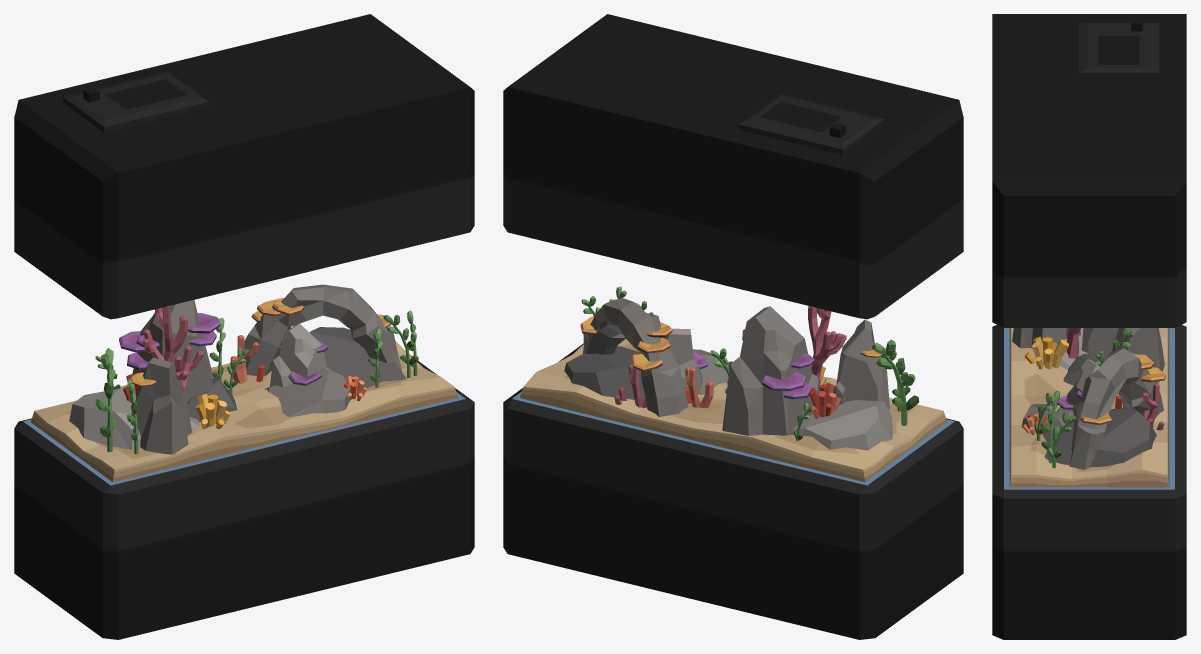
The model's file is SM_Prop_Fishtank_01.obj.
3 renders of one model, left to right at view 1: azimuth 30°, elevation 25°; view 2: azimuth 150°, elevation 25°; view 3: azimuth 270°, elevation 25°, orthographic. The views are drawn at different scales.
Parts seen in each view (by area): view 1: SM_Prop_Fishtank_01_0; view 2: SM_Prop_Fishtank_01_0; view 3: SM_Prop_Fishtank_01_0.
Boxes of the visible parts, x1=… form: SM_Prop_Fishtank_01_0: x1=14, y1=14, x2=474, y2=639; SM_Prop_Fishtank_01_0: x1=503, y1=14, x2=963, y2=639; SM_Prop_Fishtank_01_0: x1=992, y1=14, x2=1186, y2=639.
Bounding box in the file's own units: 2.5 × 3.1 × 1.16.
Materials: 1 (1 with a texture image).
